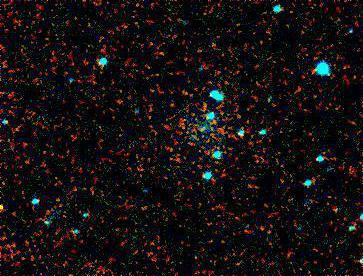star: (0, 189, 25, 219)
